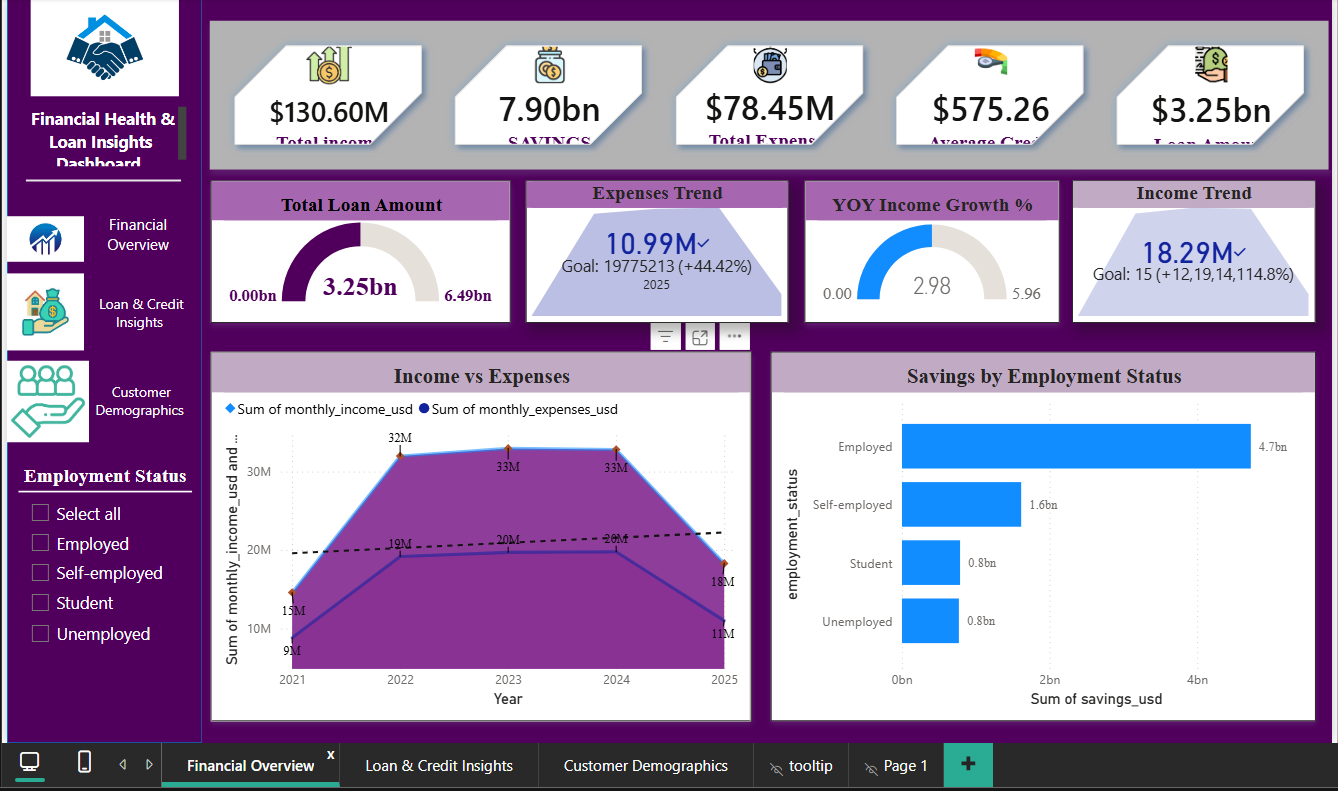

The dashboard page shown, as its layout file describes it:
{"tool":"powerbi","page":{"name":"Financial Overview ","canvas":[1280,720],"ordinal":0},"visuals":[{"type":"shape","box":[0,0,188.4,719.8],"z":0,"group":"g1"},{"type":"image","box":[0,193,74.4,79.1],"z":0,"group":"g2"},{"type":"image","box":[0,264,74.4,77.9],"z":0,"group":"g3"},{"type":"lineChart","title":"Income vs Expenses","fields":{"Y":["Sum(synthetic_personal_finance_data.monthly_income_usd)","Sum(synthetic_personal_finance_data.monthly_expenses_usd)"],"Category":["synthetic_personal_finance_data.Year"]},"box":[196.5,341.9,522.1,357],"z":0},{"type":"image","box":[0,350,79.1,79.1],"z":0,"group":"g4"},{"type":"textbox","box":[74.4,203.1,103.5,60.4],"z":1000,"group":"g2"},{"type":"textbox","box":[79.1,281.4,98.8,47.7],"z":1000,"group":"g3"},{"type":"clusteredBarChart","title":" Savings by Employment Status ","fields":{"Y":["Sum(synthetic_personal_finance_data.savings_usd)"],"Category":["synthetic_personal_finance_data.employment_status"]},"box":[737.2,341.9,526.7,357],"z":1000},{"type":"textbox","box":[79.1,365.1,98.8,50],"z":1000,"group":"g4"},{"type":"kpi","title":"Income Trend","fields":{"Indicator":["synthetic_personal_finance_data.Total income"],"TrendLine":["synthetic_personal_finance_data.Year"],"Goal":["synthetic_personal_finance_data.TARGET INCOME"]},"box":[1029.1,176.7,234.9,137.2],"z":2000},{"type":"kpi","title":"Expenses Trend","fields":{"TrendLine":["synthetic_personal_finance_data.Year"],"Goal":["synthetic_personal_finance_data.TARGET"],"Indicator":["synthetic_personal_finance_data.Total Expenses"]},"box":[501.2,176.7,253.5,137.2],"z":3000},{"type":"gauge","fields":{"Y":["synthetic_personal_finance_data.Total Loan Amount"]},"box":[196.5,176.7,289.5,137.2],"z":4000},{"type":"gauge","fields":{"Y":["synthetic_personal_finance_data.YOY Income Growth %"]},"box":[769.8,176.7,246.5,137.2],"z":5000},{"type":"cardVisual","fields":{"Data":["synthetic_personal_finance_data.Total income","Sum(synthetic_personal_finance_data.savings_usd)","synthetic_personal_finance_data.Total Expenses","synthetic_personal_finance_data.Average Credit Score","synthetic_personal_finance_data.Total Loan Amount"]},"box":[196.2,22.3,1083.8,144.7],"z":6000},{"type":"group","id":"g1","title":"Group 4","box":[0,0,188.4,719.8],"z":7000},{"type":"slicer","title":"Employment Status","fields":{"Values":["synthetic_personal_finance_data.employment_status"]},"box":[10.8,450.3,168.1,254.6],"z":8000},{"type":"image","box":[10.5,0,167.4,95.3],"z":9000,"group":"g1"},{"type":"textbox","box":[10.5,100,167.4,67.4],"z":10000,"group":"g1"},{"type":"shape","box":[18.6,159.3,150,33.7],"z":11000,"group":"g1"},{"type":"group","id":"g2","title":"Group 1","box":[0,193,177.9,79.1],"z":12000,"group":"g1"},{"type":"group","id":"g3","title":"Group 2","box":[0,264,177.9,77.9],"z":13000,"group":"g1"},{"type":"group","id":"g4","title":"Group 3","box":[0,350,177.9,79.1],"z":14000,"group":"g1"}]}

Visuals, with their boxes in screenshot pixels (x1, y1, x2, y2):
shape: x1=0, y1=0, x2=194, y2=739
image: x1=0, y1=195, x2=77, y2=277
image: x1=0, y1=269, x2=77, y2=349
"Income vs Expenses" lineChart: x1=203, y1=349, x2=741, y2=717
image: x1=0, y1=357, x2=82, y2=439
textbox: x1=77, y1=206, x2=183, y2=268
textbox: x1=82, y1=287, x2=183, y2=336
" Savings by Employment Status " clusteredBarChart: x1=760, y1=349, x2=1303, y2=717
textbox: x1=82, y1=373, x2=183, y2=424
"Income Trend" kpi: x1=1061, y1=179, x2=1303, y2=320
"Expenses Trend" kpi: x1=517, y1=179, x2=778, y2=320
gauge - synthetic_personal_finance_data.Total Loan Amount: x1=203, y1=179, x2=501, y2=320
gauge - synthetic_personal_finance_data.YOY Income Growth %: x1=794, y1=179, x2=1048, y2=320
cardVisual - synthetic_personal_finance_data.Total income x Sum(synthetic_personal_finance_data.savings_usd): x1=202, y1=20, x2=1320, y2=169
"Group 4" group: x1=0, y1=0, x2=194, y2=739
"Employment Status" slicer: x1=11, y1=461, x2=184, y2=723
image: x1=11, y1=0, x2=183, y2=95
textbox: x1=11, y1=100, x2=183, y2=169
shape: x1=19, y1=161, x2=174, y2=195
"Group 1" group: x1=0, y1=195, x2=183, y2=277
"Group 2" group: x1=0, y1=269, x2=183, y2=349
"Group 3" group: x1=0, y1=357, x2=183, y2=439
